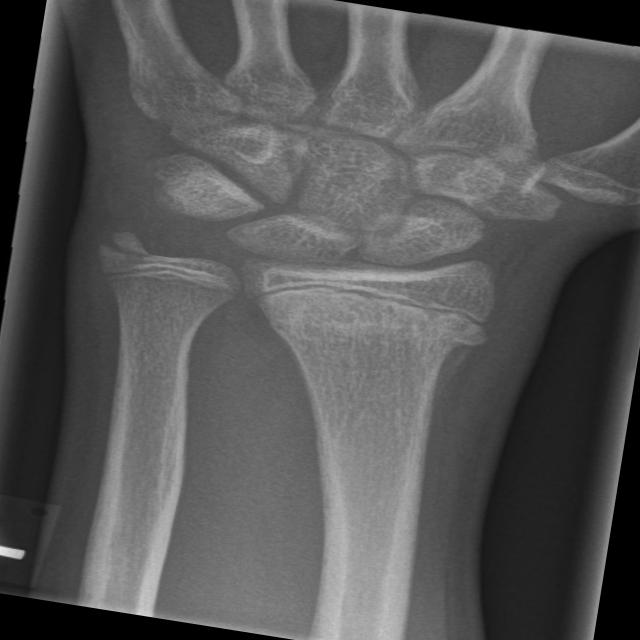fracture: (215, 254, 522, 352), (74, 232, 257, 318)
